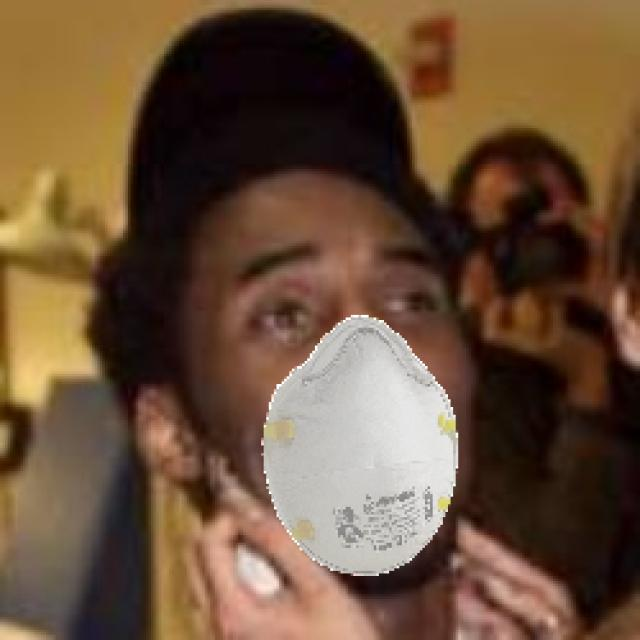mask: (236, 326, 501, 602)
